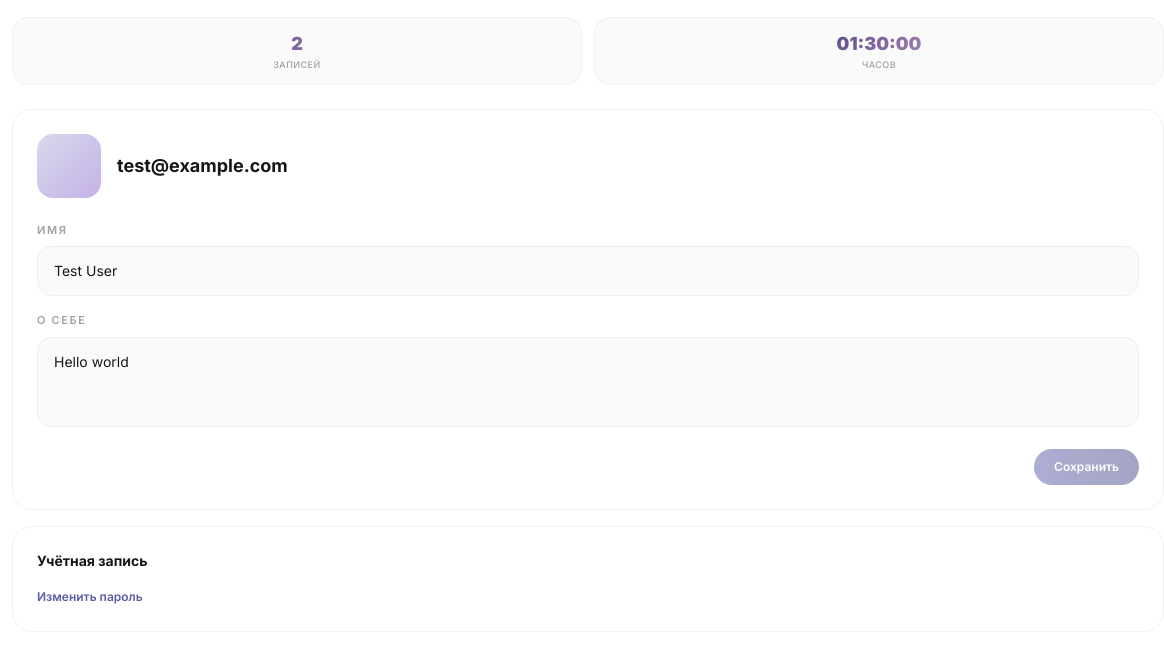
ProfilePage › hides form and clears fields on cancel
Click the button "Изменить пароль".
click(90, 596)  # box 37,588 -> 143,604
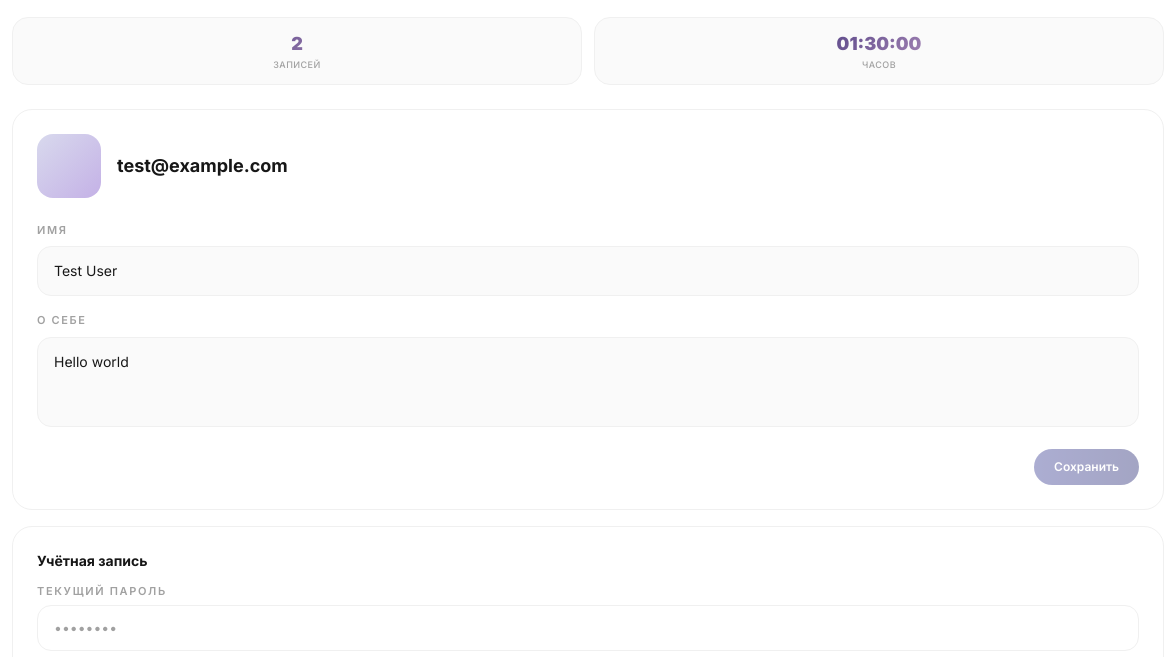
Type "somepass" into the password field with placeholder "••••••••".
click(588, 628); type("somepass")  # box 37,605 -> 1139,651
(page scrolled)
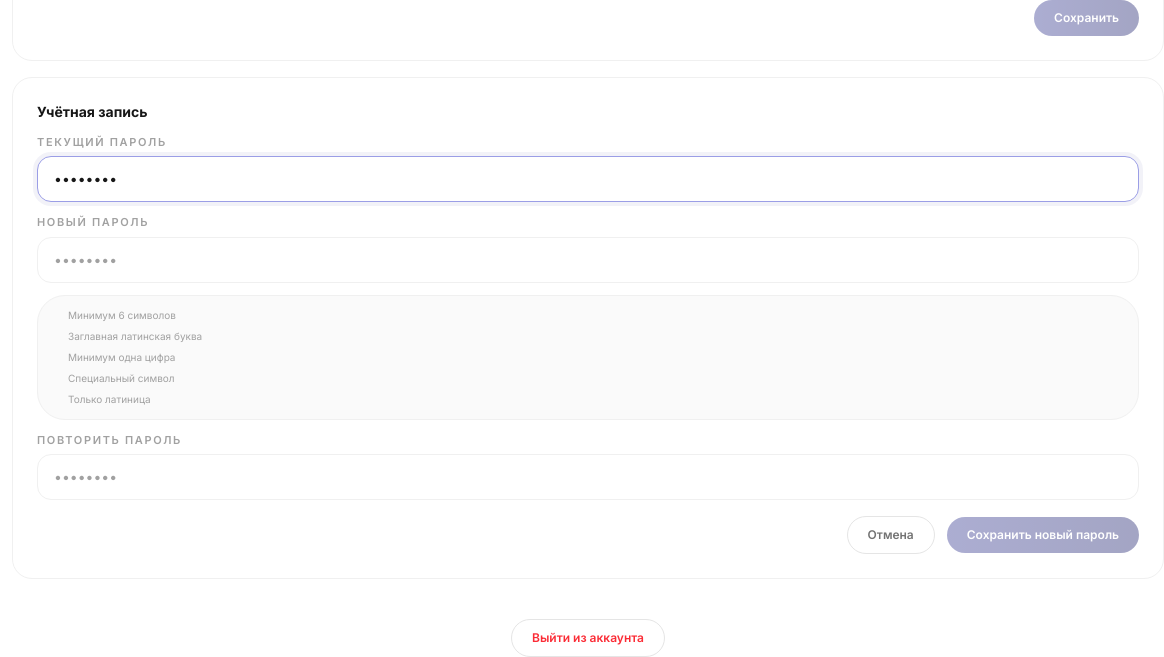
Click the button "Отмена".
click(891, 535)  # box 847,516 -> 935,554
(page scrolled)
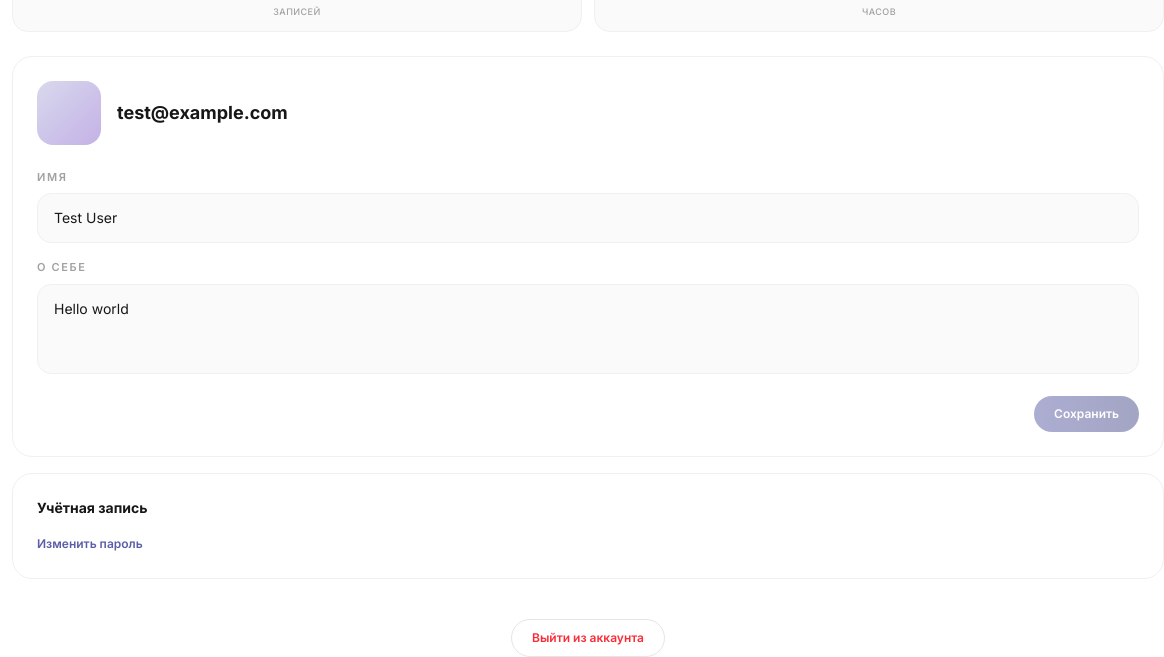
Expected: the button "Изменить пароль" is shown, 37,536 -> 143,552
Expected: the button "Сохранить новый пароль" is gone
